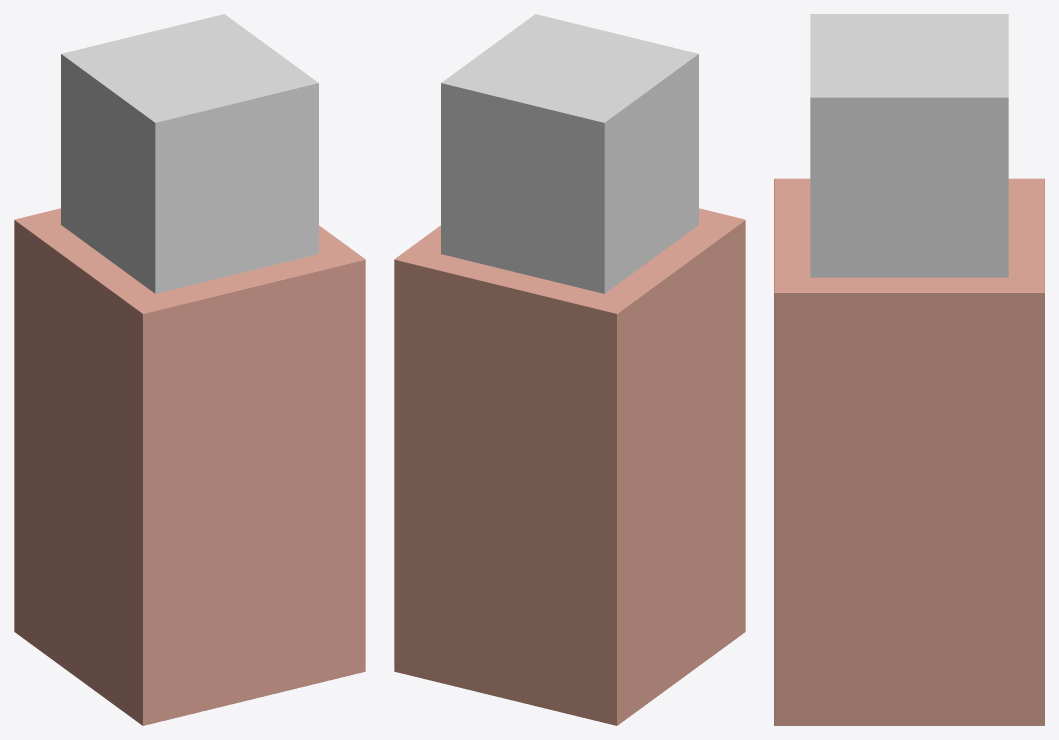
File: cube_pink.glb
The picture shows the model from 3 angles, left to right: view 1: azimuth 30°, elevation 25°; view 2: azimuth 150°, elevation 25°; view 3: azimuth 270°, elevation 25°; orthographic projection. The views are drawn at different scales.
Visible parts, largest first — view 1: Cube, placeholder; view 2: Cube, placeholder; view 3: Cube, placeholder.
Part boxes in pixels (x1,y1,x2,y2): Cube: (14,208,365,725); placeholder: (61,14,318,293); Cube: (394,208,745,725); placeholder: (441,14,698,293); Cube: (774,178,1044,725); placeholder: (810,14,1008,277).
Bounding box in the file's own units: 2 × 5 × 2.
